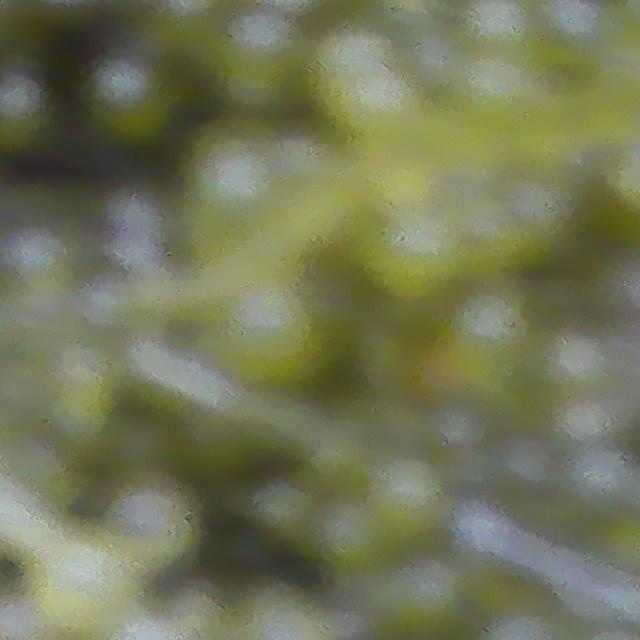SeaGrape: (204, 280, 310, 380), (35, 532, 129, 630), (186, 130, 280, 223), (86, 55, 177, 145), (377, 554, 470, 640), (369, 453, 448, 539), (107, 487, 190, 567), (313, 495, 393, 574), (0, 70, 51, 154)
